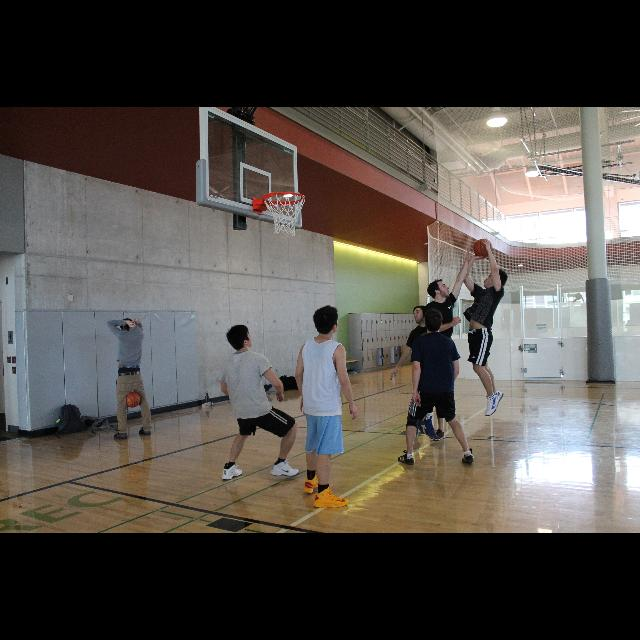head: (314, 308, 340, 334), (228, 326, 252, 350), (484, 268, 508, 290), (424, 308, 444, 332), (428, 280, 450, 298), (413, 306, 429, 324), (120, 318, 136, 332)
person: (294, 304, 360, 510), (219, 325, 301, 481), (397, 308, 475, 467), (416, 248, 472, 420), (388, 304, 448, 444), (462, 237, 508, 418), (106, 317, 152, 441)
